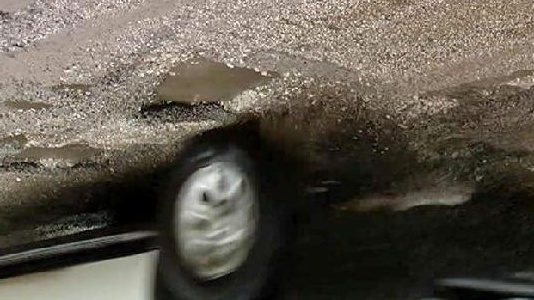pothole: (140, 52, 289, 124), (0, 129, 112, 176), (52, 82, 93, 103), (0, 98, 55, 113), (0, 0, 43, 18)
